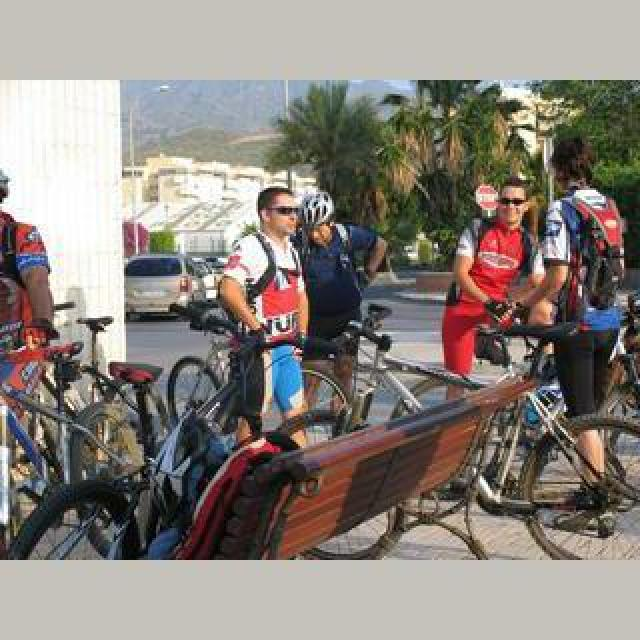Bus-Bike: (124, 252, 202, 320)
MC-Bike: (216, 184, 312, 432), (442, 184, 542, 380), (300, 192, 388, 388), (0, 168, 58, 348)
Person: (272, 306, 640, 558), (166, 314, 360, 446)
